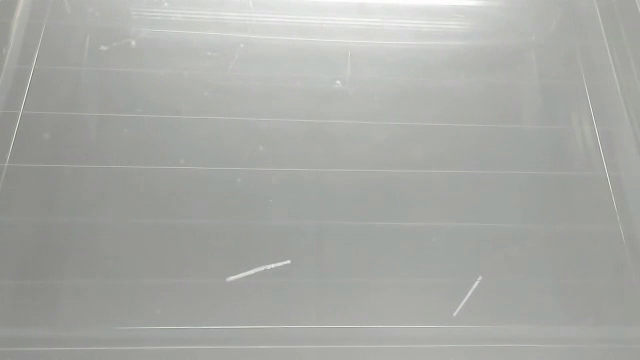alpha: (224, 258, 293, 286), (450, 274, 489, 320)
